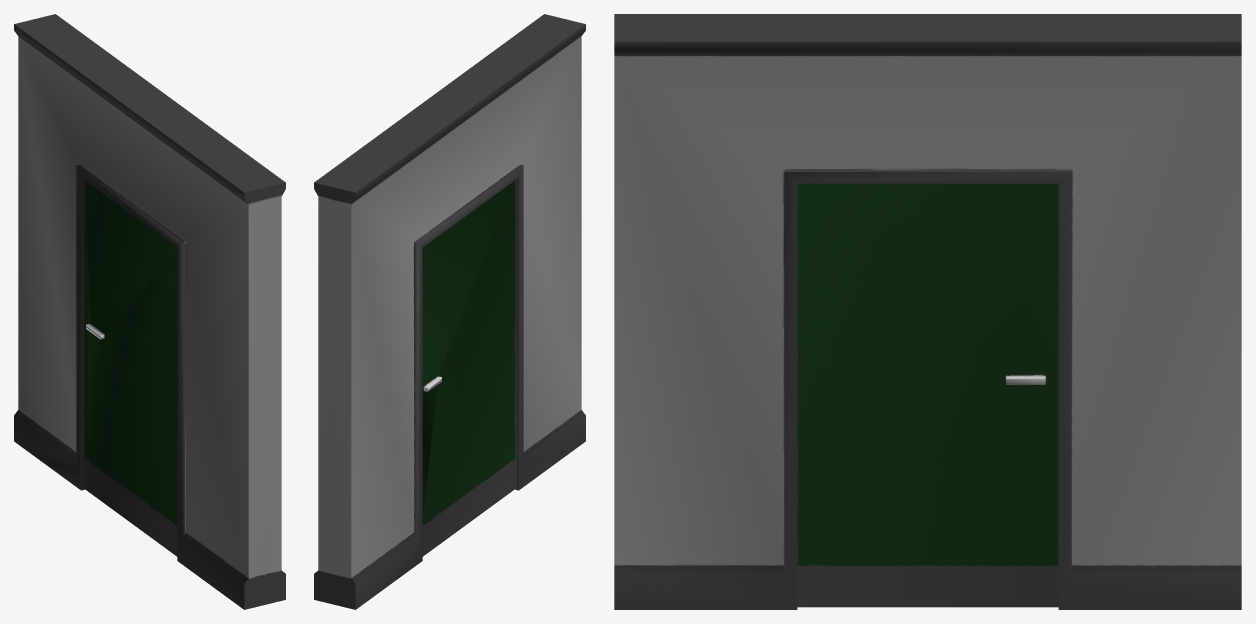
The model's file is Neo_WallDoor_01_snaps001.fbx.
3 views of the same model, side by side, from view 1: azimuth 30°, elevation 25°; view 2: azimuth 150°, elevation 25°; view 3: azimuth 270°, elevation 25° (orthographic). The views are drawn at different scales.
Parts seen in each view (by area): view 1: Neo_WallDoor_01_snaps001; view 2: Neo_WallDoor_01_snaps001; view 3: Neo_WallDoor_01_snaps001.
Boxes of the visible parts, x1,y1,x2,y2 form: Neo_WallDoor_01_snaps001: (14, 14, 285, 609); Neo_WallDoor_01_snaps001: (314, 14, 585, 609); Neo_WallDoor_01_snaps001: (614, 14, 1241, 609).
Bounding box in the file's own units: 0.3125 × 3 × 3.
